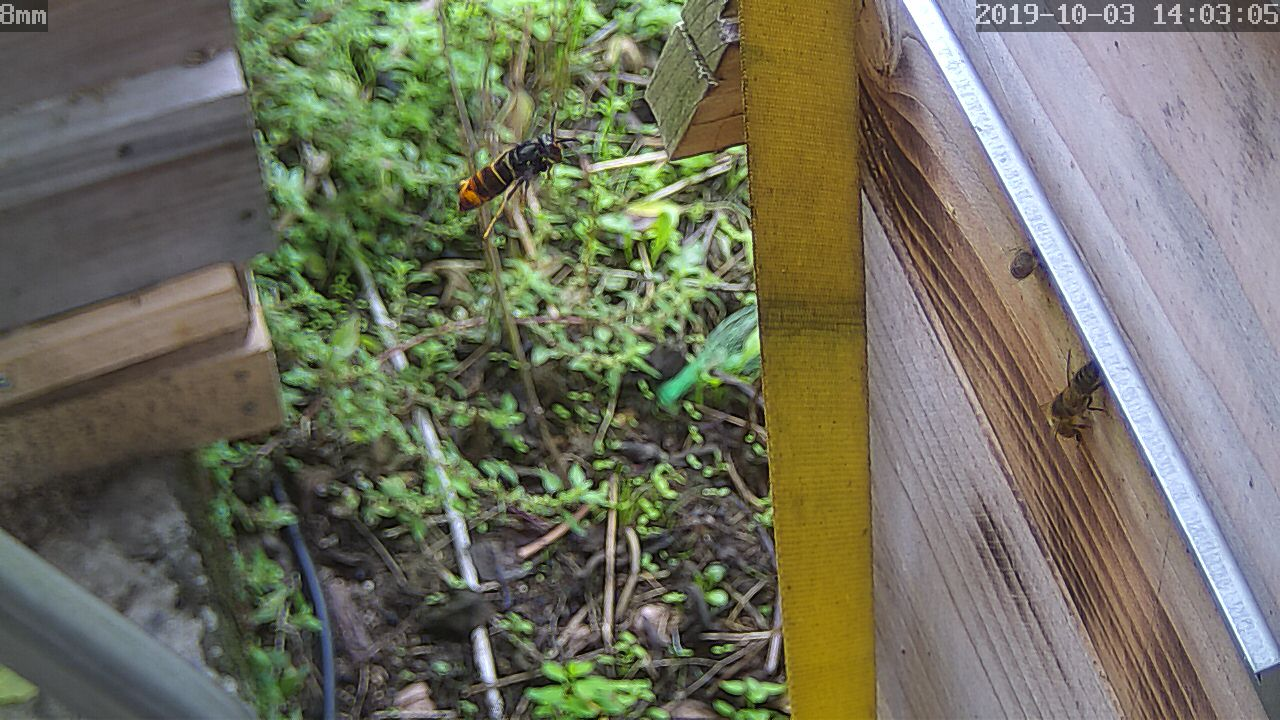bee: (1042, 354, 1109, 439), (1000, 234, 1050, 292)
hornet: (455, 118, 576, 222)
